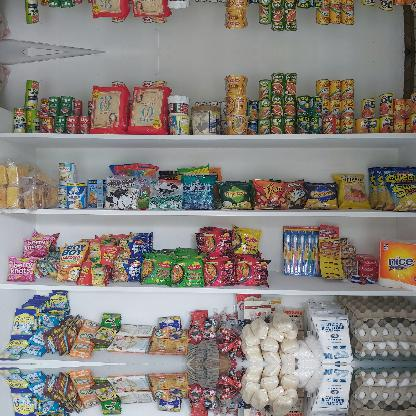Lady-s-Choice: (190, 106, 220, 134)
